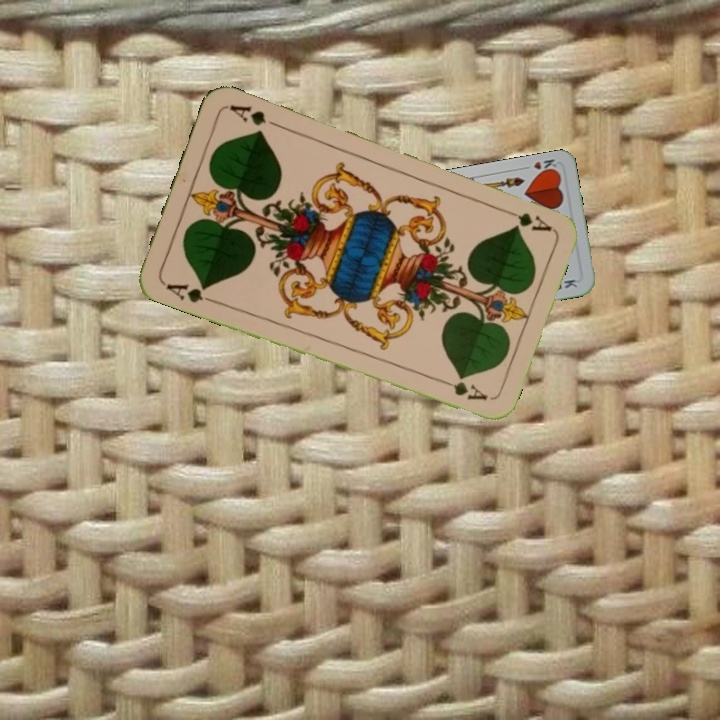GA: (497, 204, 554, 234), (162, 279, 218, 307)
HK: (529, 155, 560, 177)
